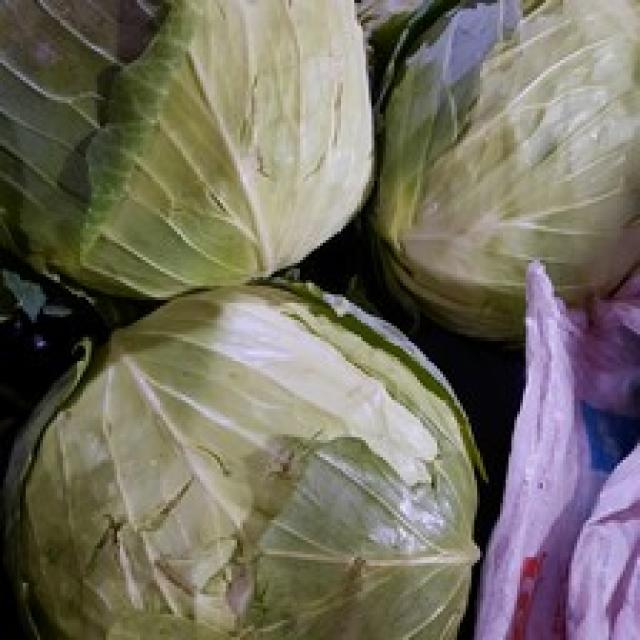Cabbage: (0, 274, 486, 637)
